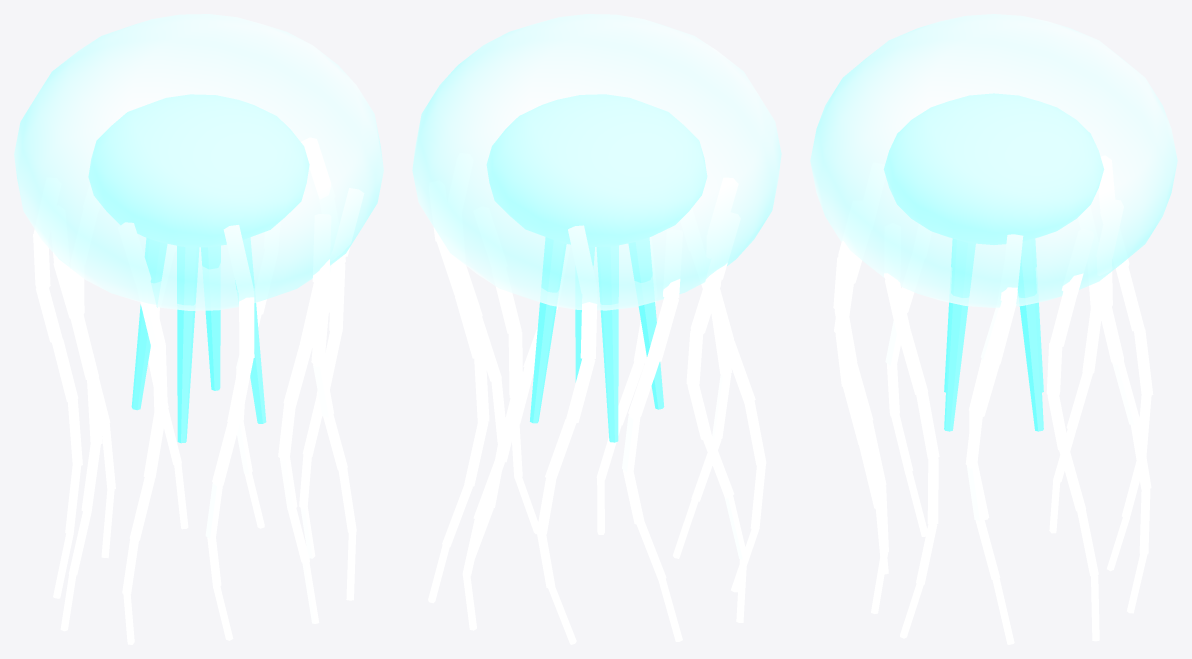
The model's file is mu_jellyfish_blue.glb.
The picture shows the model from 3 angles, left to right: view 1: azimuth 30°, elevation 25°; view 2: azimuth 150°, elevation 25°; view 3: azimuth 270°, elevation 25°; orthographic projection.
Visible parts, largest first — view 1: mu_jellyfish_blue; view 2: mu_jellyfish_blue; view 3: mu_jellyfish_blue.
Boxes of the visible parts, x1,y1,x2,y2 form: mu_jellyfish_blue: [14, 14, 383, 644]; mu_jellyfish_blue: [412, 14, 781, 644]; mu_jellyfish_blue: [810, 14, 1177, 644].
Bounding box in the file's own units: 1.6 × 2.64 × 1.6.
Materials: 3 (3 with a texture image).
